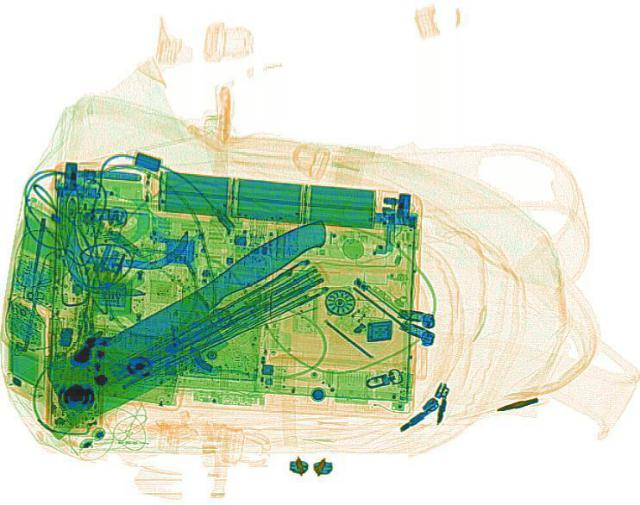Knife: (15, 214, 375, 427)
